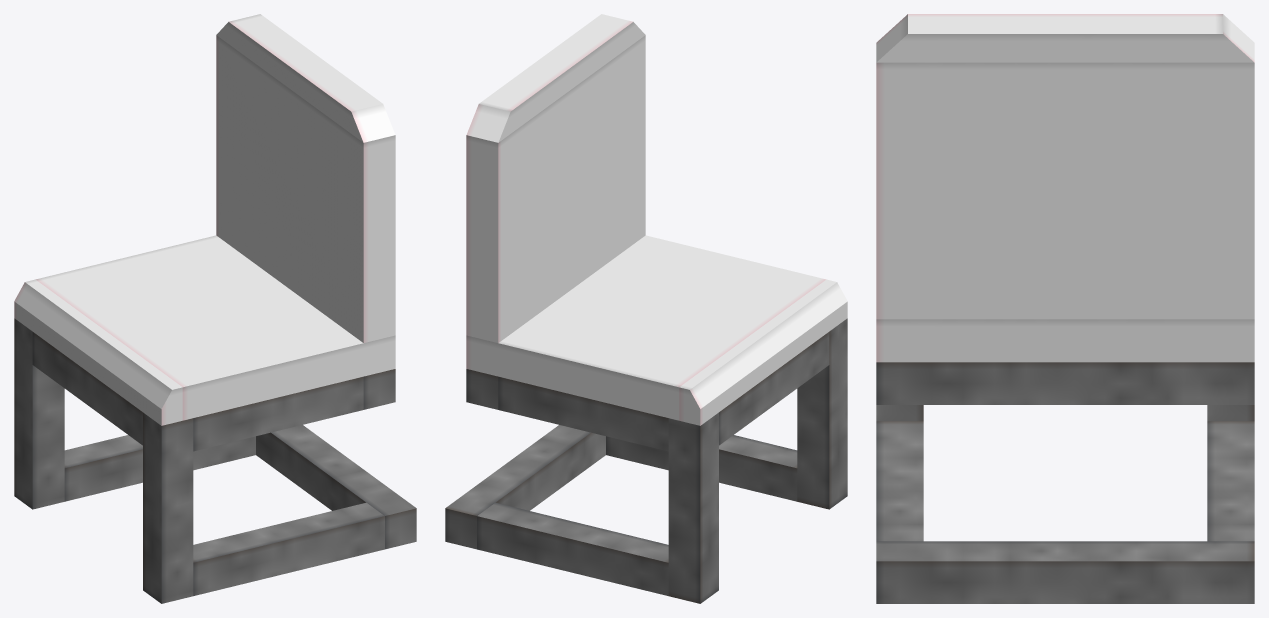
File: ModernChair.dae
3 views of the same model, side by side, from view 1: azimuth 30°, elevation 25°; view 2: azimuth 150°, elevation 25°; view 3: azimuth 270°, elevation 25° (orthographic). The views are drawn at different scales.
Parts seen in each view (by area): view 1: Top, Legs; view 2: Top, Legs; view 3: Top, Legs.
Boxes of the visible parts, box(x1,y1,x2,y2) form: Top: box(14, 14, 395, 425); Legs: box(14, 318, 416, 603); Top: box(466, 14, 847, 425); Legs: box(445, 318, 847, 603); Top: box(876, 14, 1254, 362); Legs: box(876, 362, 1254, 603).
Size of the model in its own units: 0.75 by 1.22 by 0.75.
